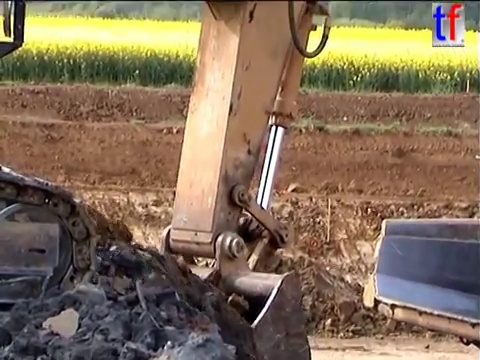excavator: (1, 1, 337, 360)
truck: (359, 214, 480, 352)
